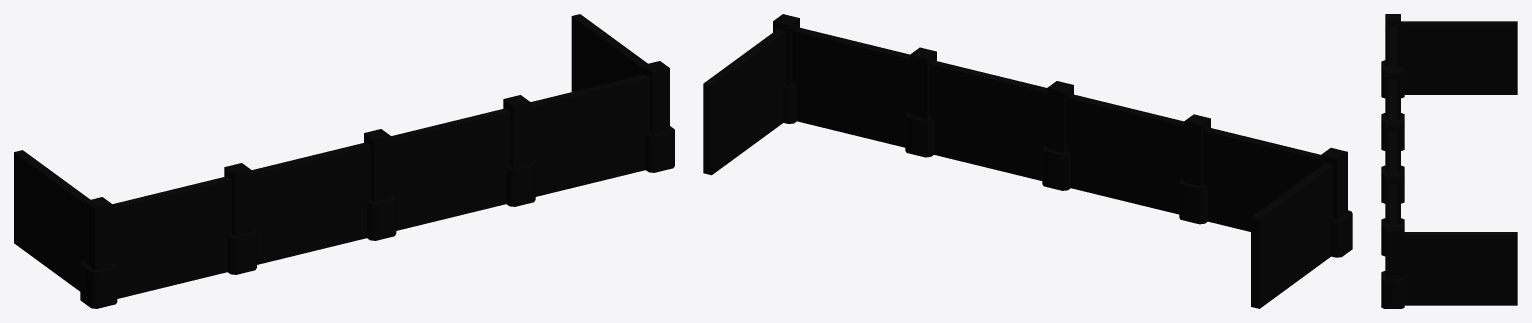
Rendered from fence-1x4.glb.
3 views of the same model, side by side, from view 1: azimuth 30°, elevation 25°; view 2: azimuth 150°, elevation 25°; view 3: azimuth 270°, elevation 25° (orthographic). The views are drawn at different scales.
Visible parts, largest first — view 1: fence-1x4; view 2: fence-1x4; view 3: fence-1x4.
Part boxes in pixels (<box>): fence-1x4: <box>14,14,674,308</box>; fence-1x4: <box>703,14,1352,308</box>; fence-1x4: <box>1381,14,1517,308</box>.
Bounding box in the file's own units: 1.68 × 0.2699 × 0.4374.
1 material, 1 textured.
